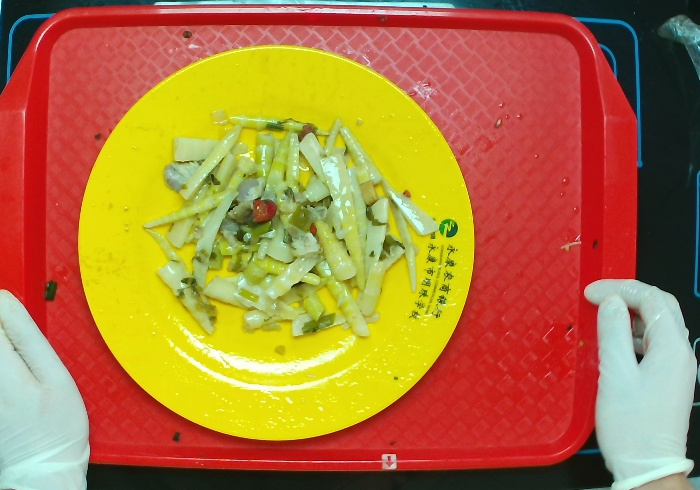YKMZ-Huang_Se_Mian_Pan: (71, 34, 490, 448)
